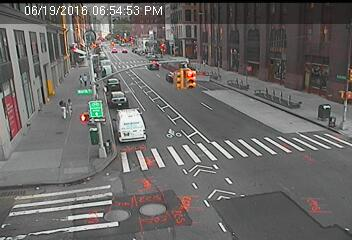neg: (244, 64, 272, 101), (311, 100, 331, 128), (210, 66, 230, 93), (335, 86, 351, 112), (290, 85, 306, 107)
pos: (50, 98, 66, 119), (65, 97, 79, 116), (79, 71, 92, 88)
